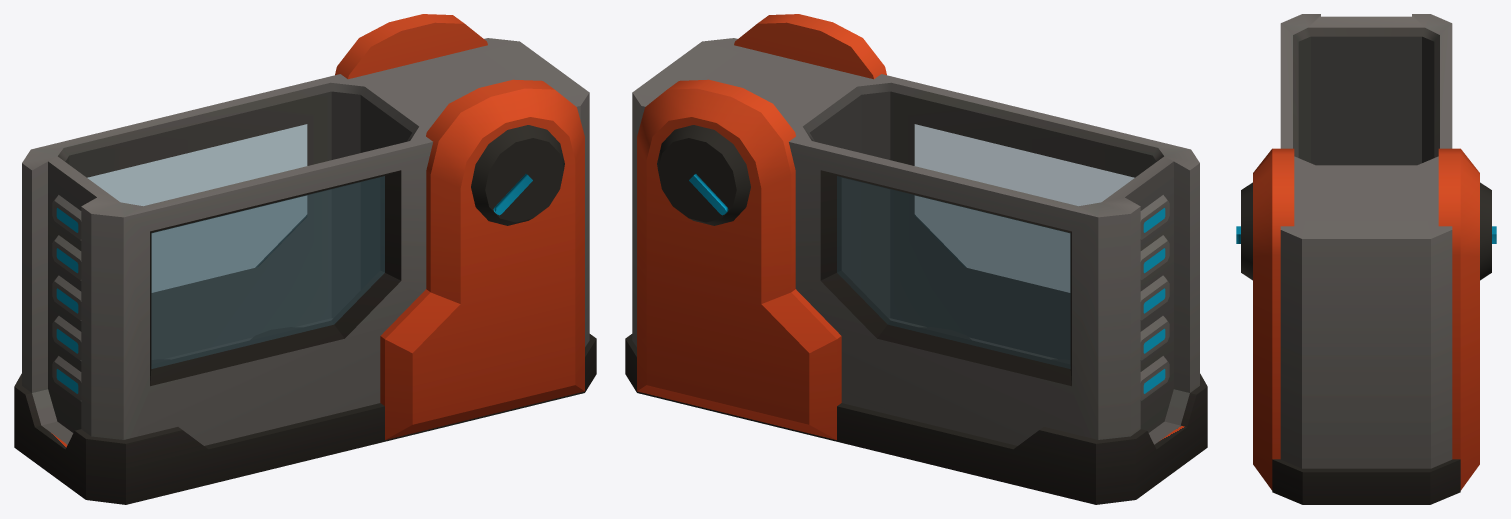
The model's file is Charging_Station_07.fbx.
3 views of the same model, side by side, from view 1: azimuth 30°, elevation 25°; view 2: azimuth 150°, elevation 25°; view 3: azimuth 270°, elevation 25° (orthographic). The views are drawn at different scales.
Visible parts, largest first — view 1: Charging_Station_07; view 2: Charging_Station_07; view 3: Charging_Station_07.
Boxes of the visible parts, left/top/right/bottom form: Charging_Station_07: left=14, top=14, right=596, bottom=504; Charging_Station_07: left=625, top=14, right=1207, bottom=504; Charging_Station_07: left=1236, top=14, right=1496, bottom=504.
Bounding box in the file's own units: 35.61 × 21.2 × 16.92.
